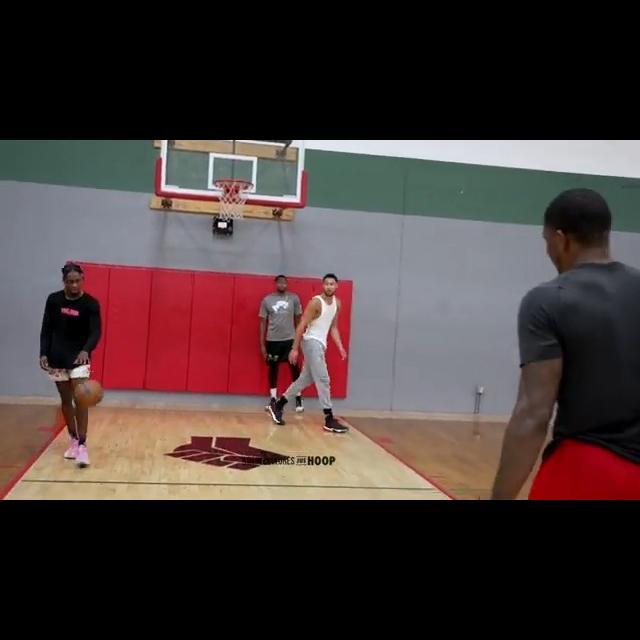basketball: (74, 380, 105, 407)
hoop: (213, 179, 254, 222)
